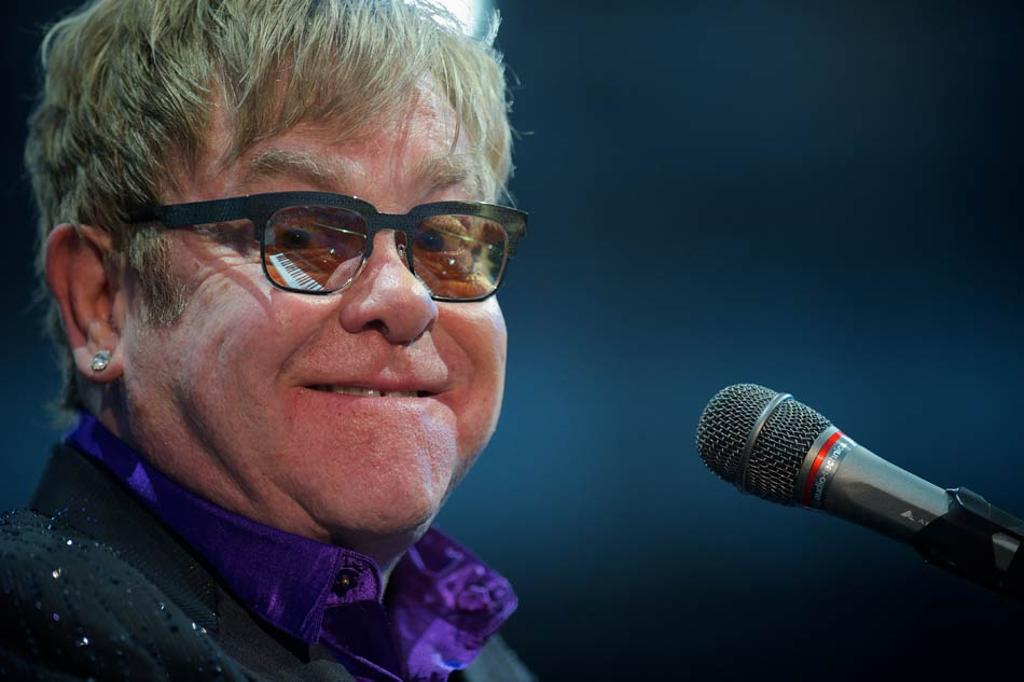face: (123, 83, 509, 533)
